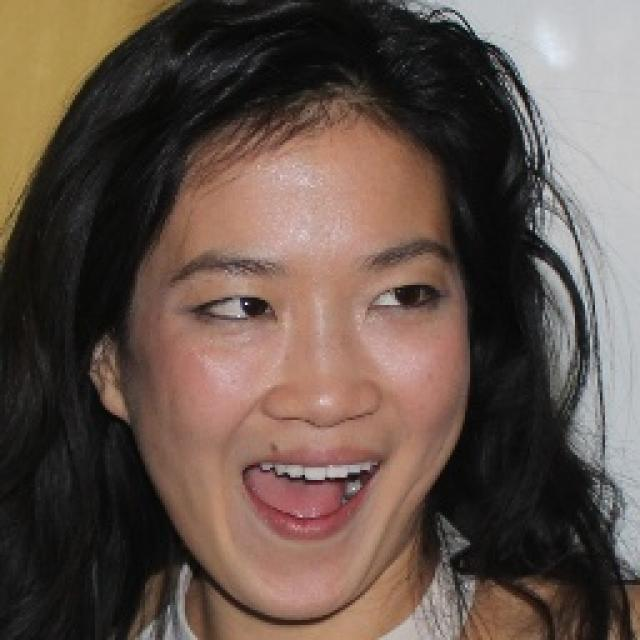earlobe: (94, 375, 126, 424)
eye: (195, 290, 279, 323), (371, 282, 446, 310)
nose: (259, 412, 380, 444)
wholeear: (86, 327, 126, 423)
